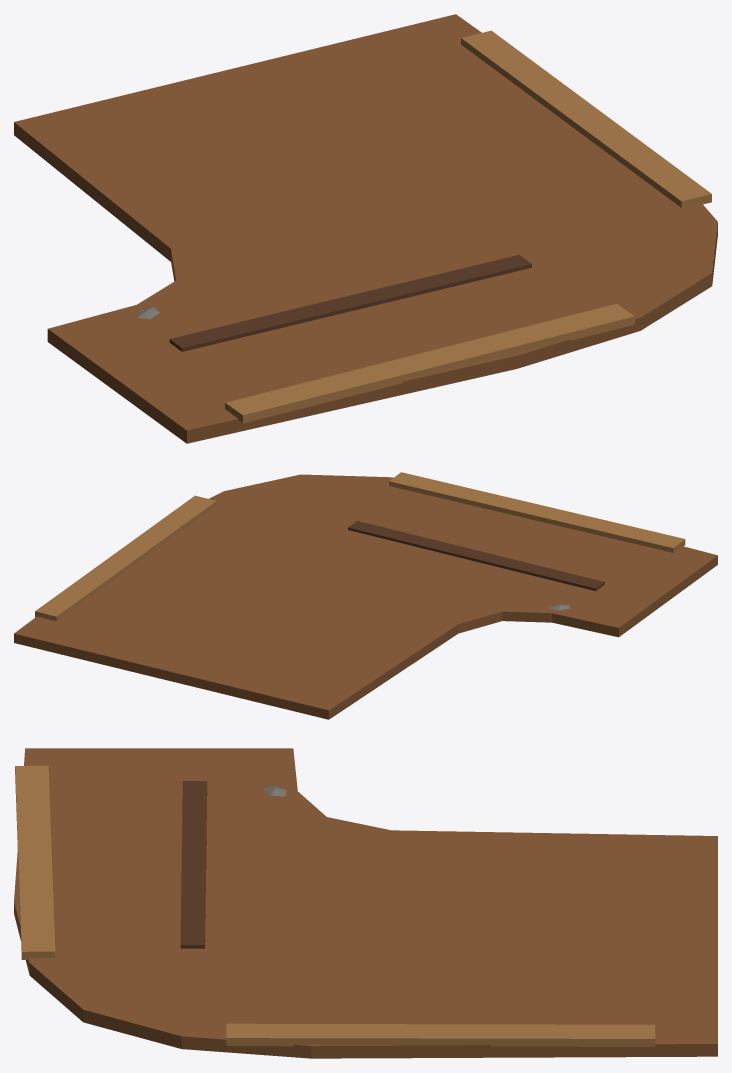
3 views of the same model, one above another, from view 1: azimuth 30°, elevation 25°; view 2: azimuth 150°, elevation 25°; view 3: azimuth 270°, elevation 25° (orthographic). The views are drawn at different scales.
Parts seen in each view (by area): view 1: WK_TownHardscape_TH08_LOD2; view 2: WK_TownHardscape_TH08_LOD2; view 3: WK_TownHardscape_TH08_LOD2.
Part boxes in pixels (x1=…): WK_TownHardscape_TH08_LOD2: x1=14, y1=14, x2=717, y2=443; WK_TownHardscape_TH08_LOD2: x1=14, y1=472, x2=717, y2=719; WK_TownHardscape_TH08_LOD2: x1=14, y1=748, x2=717, y2=1058.
Size of the model in its own units: 4 by 0.12 by 4.
